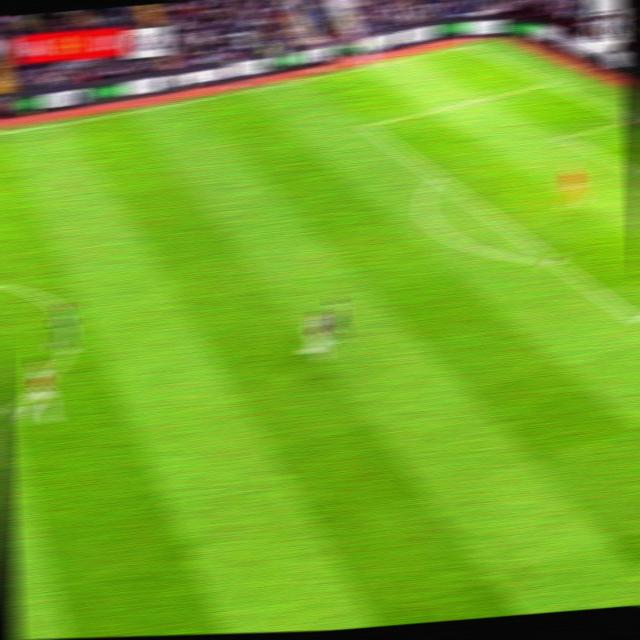bigarea_top_inner: (356, 115, 378, 135)
bigarea_top_outter: (536, 74, 558, 91)
bottom_arc_area_intersection: (542, 249, 566, 272)
corner: (454, 39, 478, 53)
smallarea_top_inner: (554, 128, 576, 146)
smallarea_top_outter: (619, 110, 635, 129)
top_arc_area_intersection: (426, 166, 448, 186)
